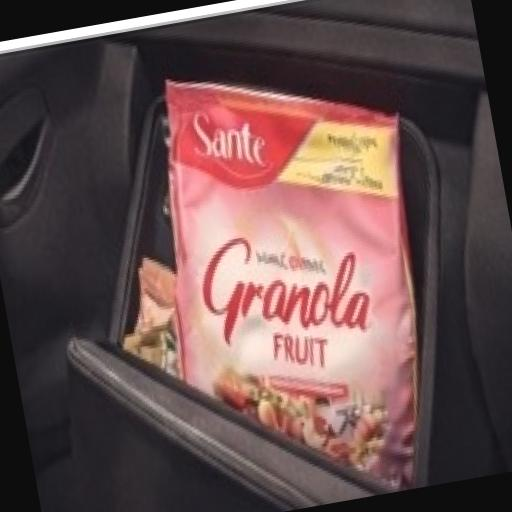granola: (104, 1, 512, 512)
